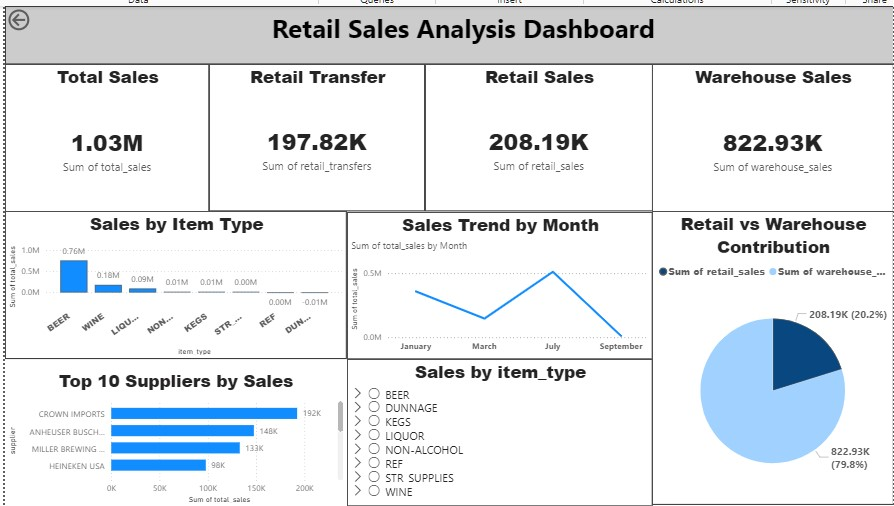

This screenshot's page, from the dashboard's own definition file:
{"tool":"powerbi","page":{"name":"Page 1","canvas":[1280,720],"ordinal":0},"visuals":[{"type":"card","title":"Total Sales","fields":{"Values":["Sum(cleaned_data.total_sales)"]},"box":[0,84,294,213.3],"z":0},{"type":"card","title":"Retail Sales","fields":{"Values":["Sum(cleaned_data.retail_sales)"]},"box":[604.7,84,327.6,211.7],"z":1000},{"type":"card","title":"Warehouse Sales","fields":{"Values":["Sum(cleaned_data.warehouse_sales)"]},"box":[932.3,84,347.7,213.3],"z":2000},{"type":"card","title":"Retail Transfer","fields":{"Values":["Sum(cleaned_data.retail_transfers)"]},"box":[294,84,310.8,211.7],"z":3000},{"type":"textbox","box":[0,0,1280,84],"z":4000},{"type":"lineChart","title":"Sales Trend by Month","fields":{"Y":["Sum(cleaned_data.total_sales)"],"Category":["cleaned_data.date.Variation.Date Hierarchy.Month"]},"box":[492.2,297.3,440.1,211.7],"z":5000},{"type":"actionButton","box":[0,0,100,40],"z":6000},{"type":"clusteredColumnChart","title":"Sales by Item Type","fields":{"Category":["cleaned_data.item_type"],"Y":["Sum(cleaned_data.total_sales)"]},"box":[0,295.6,492.2,213.3],"z":7000},{"type":"pieChart","title":"Retail vs Warehouse Contribution","fields":{"Y":["Sum(cleaned_data.retail_sales)","Sum(cleaned_data.warehouse_sales)"]},"box":[932.3,295.6,347.7,423.3],"z":8000},{"type":"listSlicer","title":"Sales by item_type","fields":{"Values":["cleaned_data.item_type","cleaned_data.month"]},"box":[492.2,509,440.1,211.7],"z":9000},{"type":"clusteredBarChart","title":"Top 10 Suppliers by Sales","fields":{"Category":["cleaned_data.supplier"],"Y":["Sum(cleaned_data.total_sales)"]},"box":[0,522.4,492.2,198.2],"z":10000}]}

Visuals, with their boxes in screenshot pixels (x1, y1, x2, y2):
"Total Sales" card: box=[5, 63, 207, 209]
"Retail Sales" card: box=[421, 63, 647, 208]
"Warehouse Sales" card: box=[647, 63, 886, 209]
"Retail Transfer" card: box=[207, 63, 421, 208]
textbox: box=[5, 5, 886, 63]
"Sales Trend by Month" lineChart: box=[344, 209, 647, 355]
actionButton: box=[5, 5, 74, 32]
"Sales by Item Type" clusteredColumnChart: box=[5, 208, 344, 355]
"Retail vs Warehouse Contribution" pieChart: box=[647, 208, 886, 500]
"Sales by item_type" listSlicer: box=[344, 355, 647, 501]
"Top 10 Suppliers by Sales" clusteredBarChart: box=[5, 364, 344, 501]
